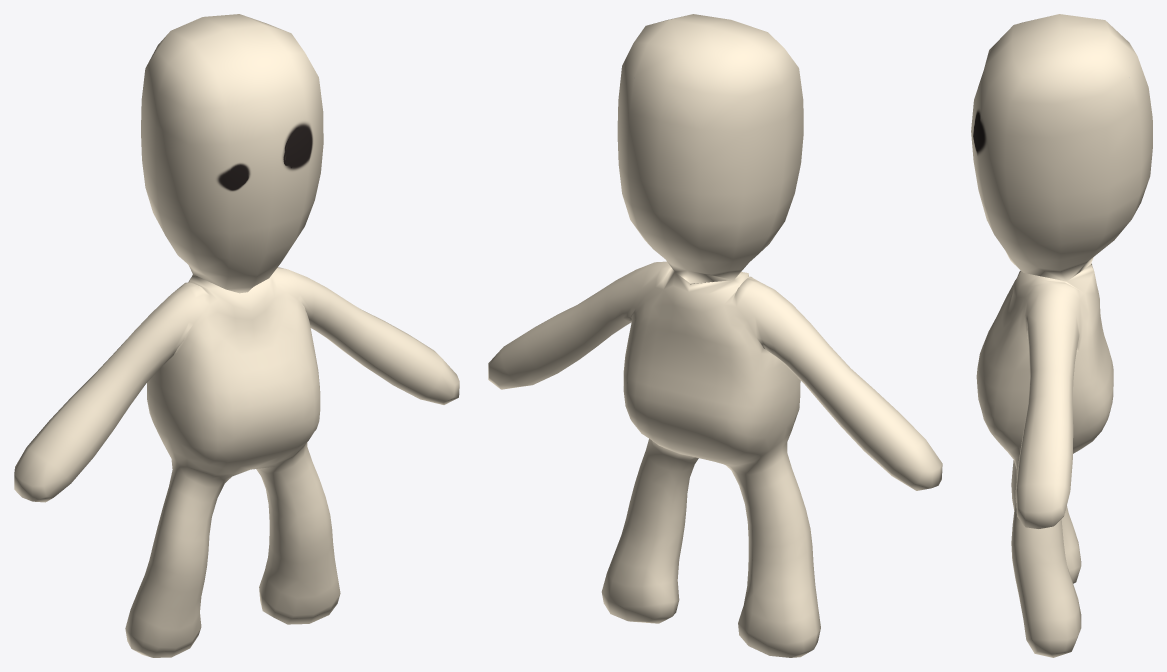
File: radicals.fbx
3 views of the same model, side by side, from view 1: azimuth 30°, elevation 25°; view 2: azimuth 150°, elevation 25°; view 3: azimuth 270°, elevation 25° (orthographic). The views are drawn at different scales.
Parts seen in each view (by area): view 1: radicals; view 2: radicals; view 3: radicals.
Boxes of the visible parts, x1=… form: radicals: x1=14, y1=14, x2=459, y2=657; radicals: x1=488, y1=14, x2=942, y2=657; radicals: x1=971, y1=14, x2=1152, y2=657.
Size of the model in its own units: 103 by 136 by 37.92.
1 material, 1 textured.
